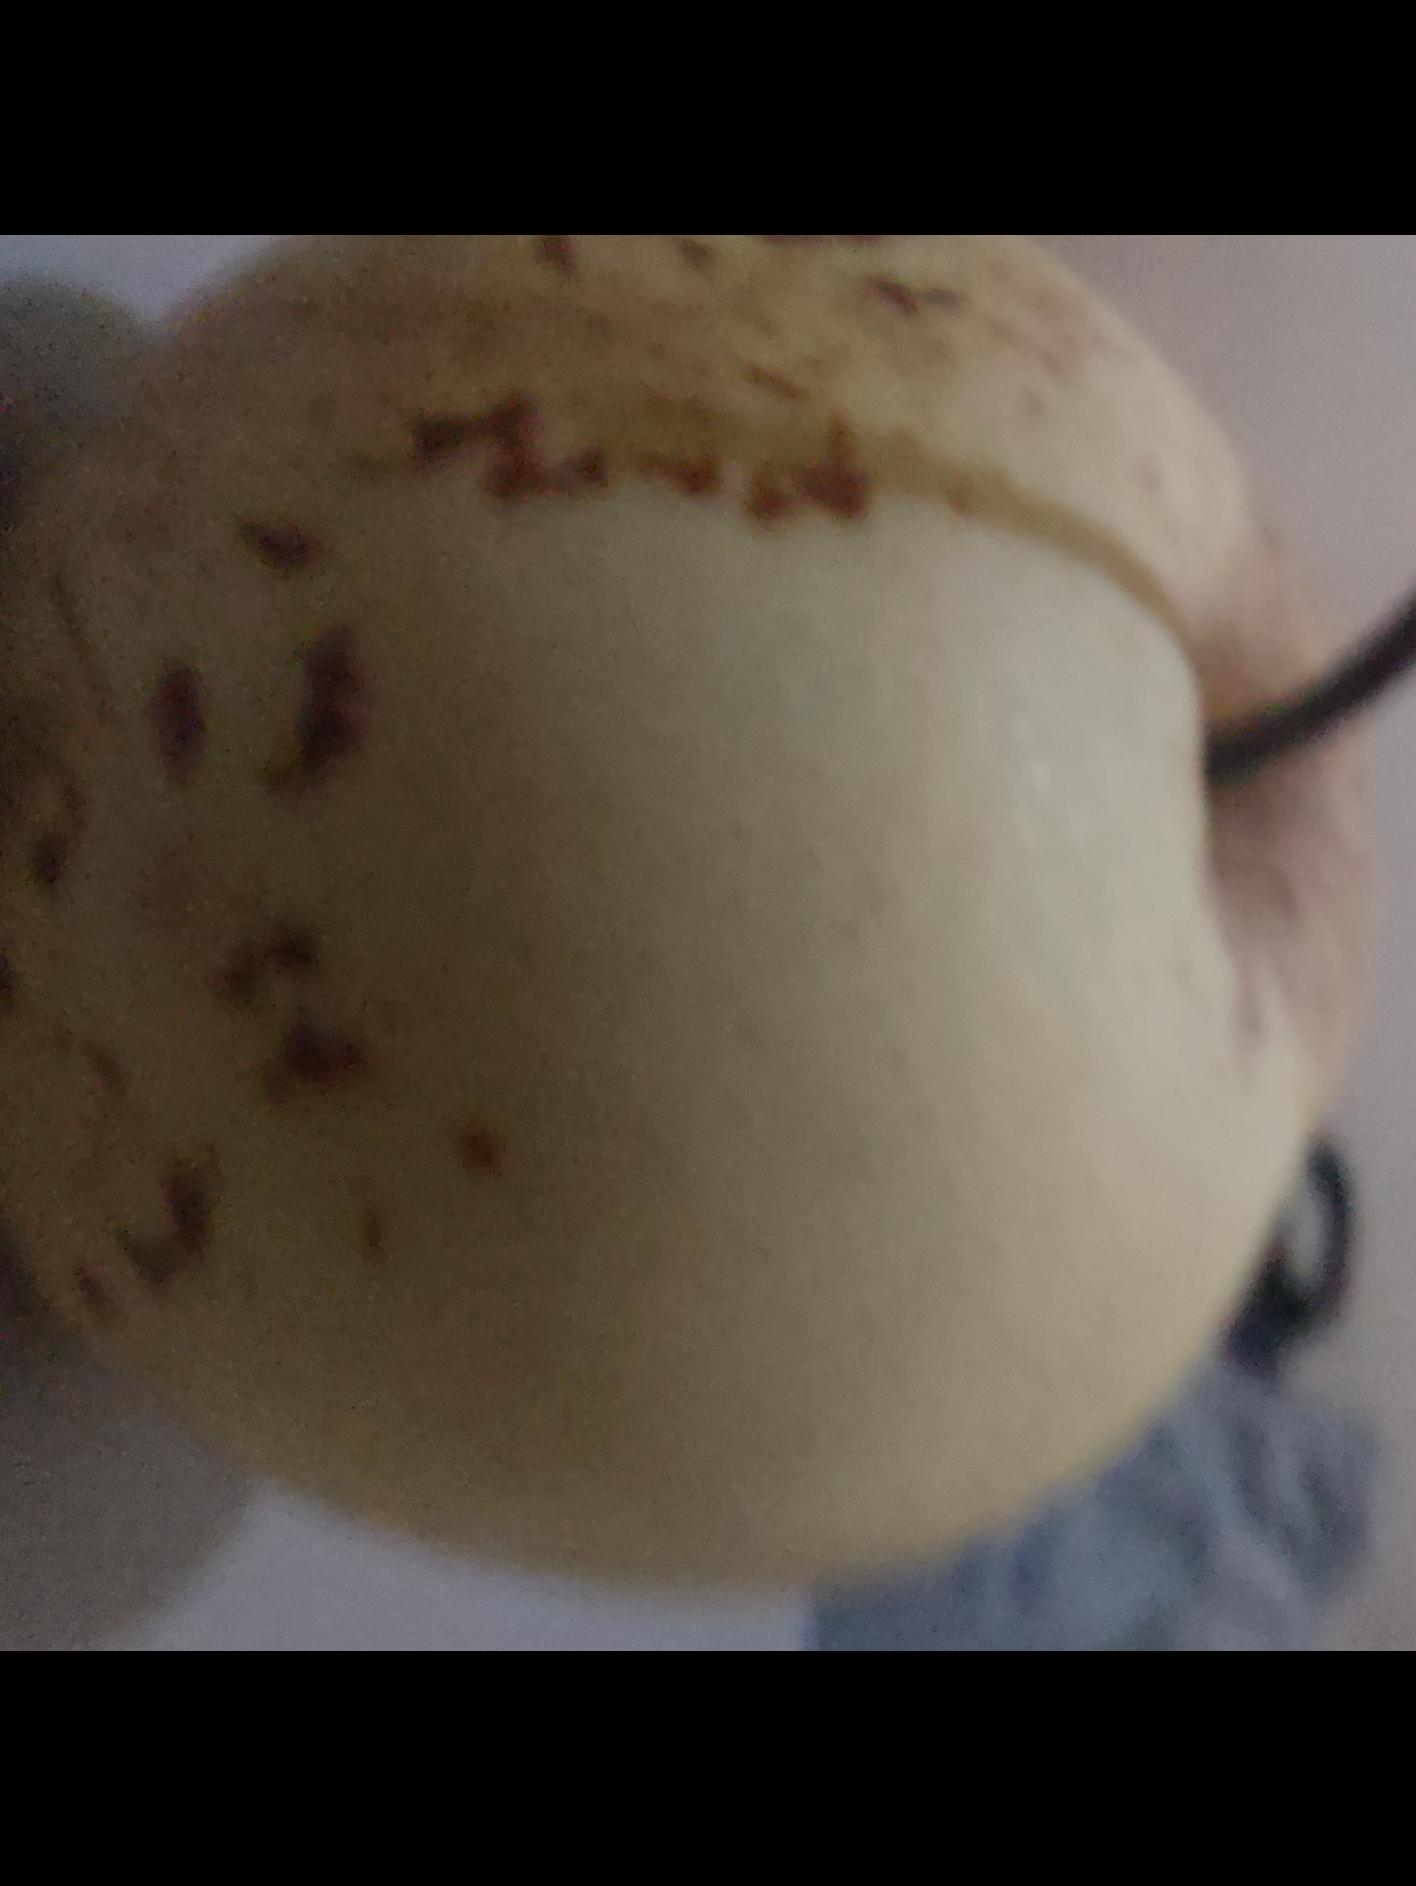Bad Pear: (0, 235, 1371, 1612)
